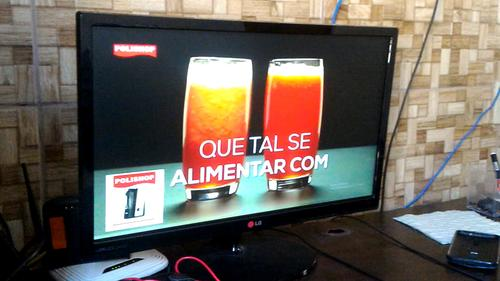Polishop #1: (104, 169, 165, 231)
